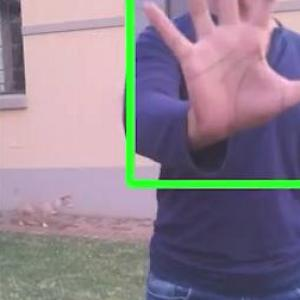follow_hand: (136, 0, 299, 145)
